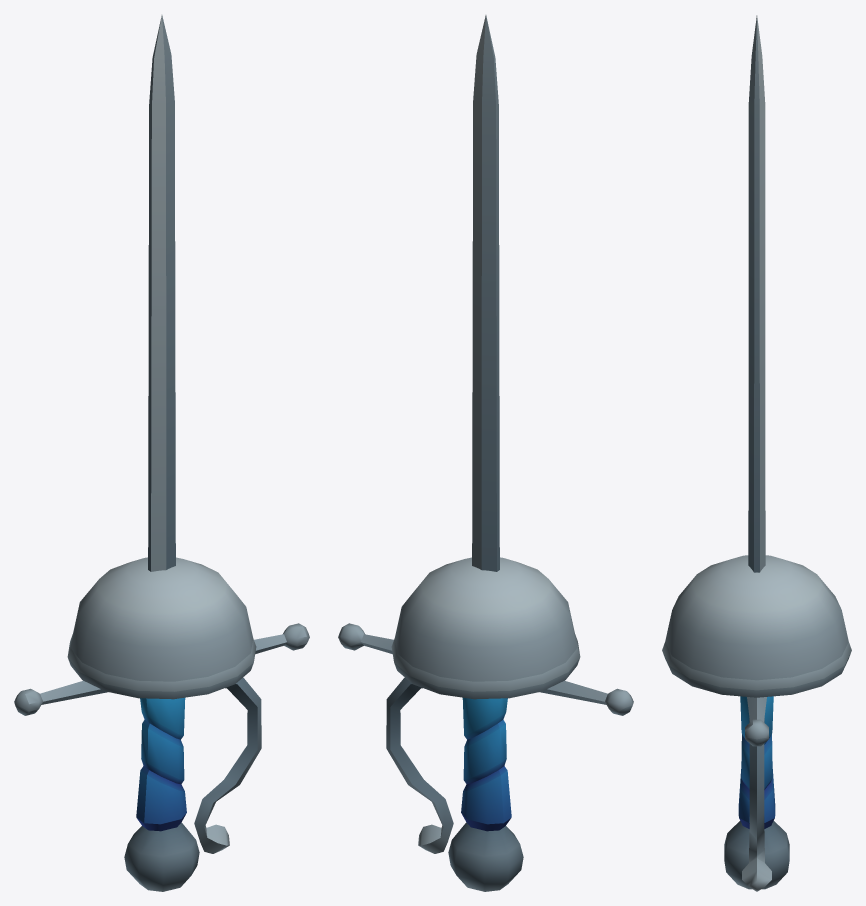
Rendered from k_sword_d.glb.
3 renders of one model, left to right at view 1: azimuth 30°, elevation 25°; view 2: azimuth 150°, elevation 25°; view 3: azimuth 270°, elevation 25°, orthographic.
Parts seen in each view (by area): view 1: sword_D; view 2: sword_D; view 3: sword_D.
Part boxes in pixels (x1,y1,x2,y2): sword_D: (14, 15, 309, 891); sword_D: (338, 15, 633, 891); sword_D: (662, 15, 851, 891).
Bounding box in the file's own units: 0.7149 × 2.04 × 0.4015.
1 material, 1 textured.
